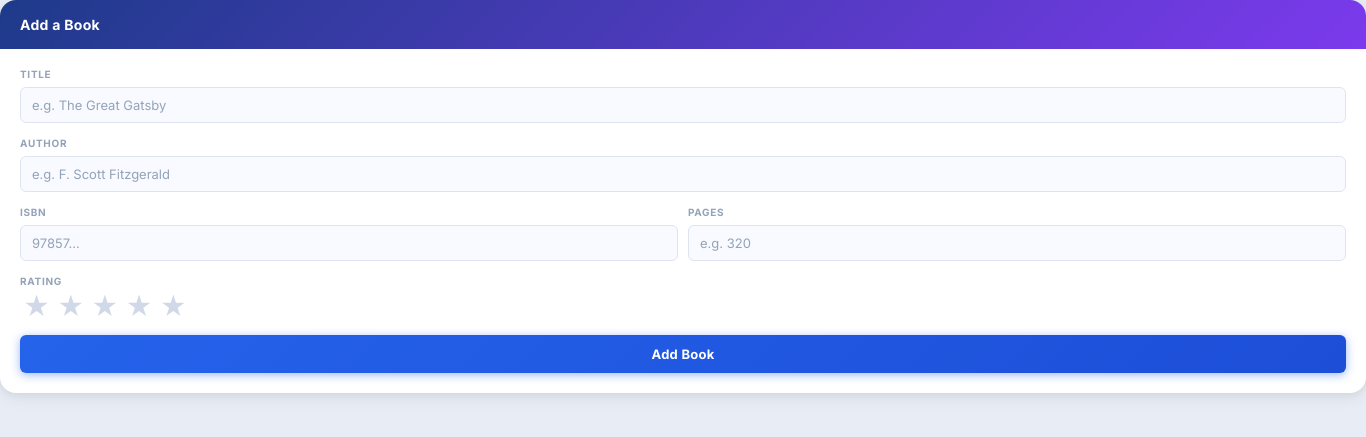
Test: AddBookForm › shows rating error when no star selected
Type "My Book" into the field labelled "Title" at {"x": 683, "y": 105}, box [20,87,1346,123]
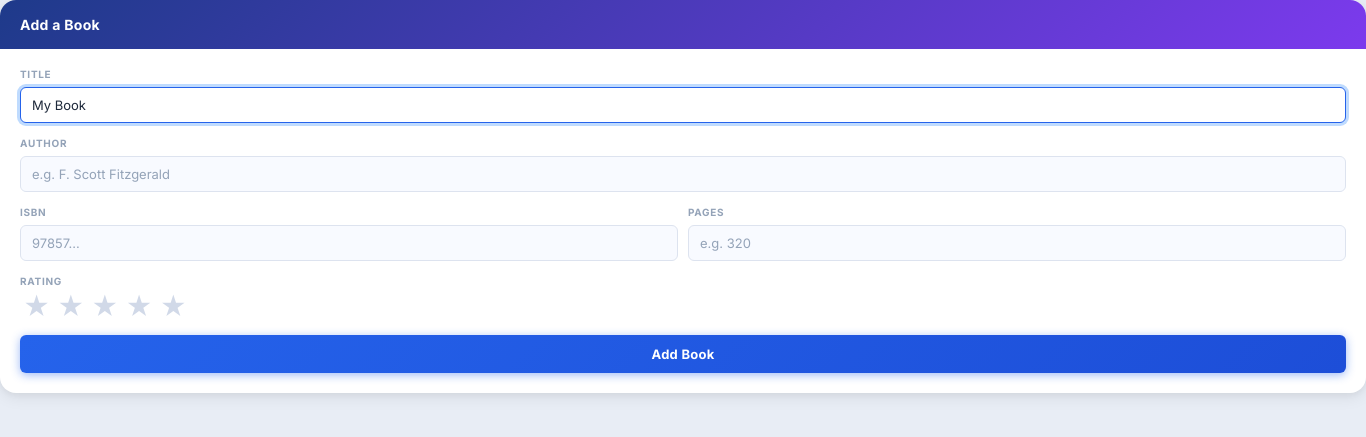
Type "Author" into the field labelled "Author" at {"x": 683, "y": 174}, box [20,156,1346,192]
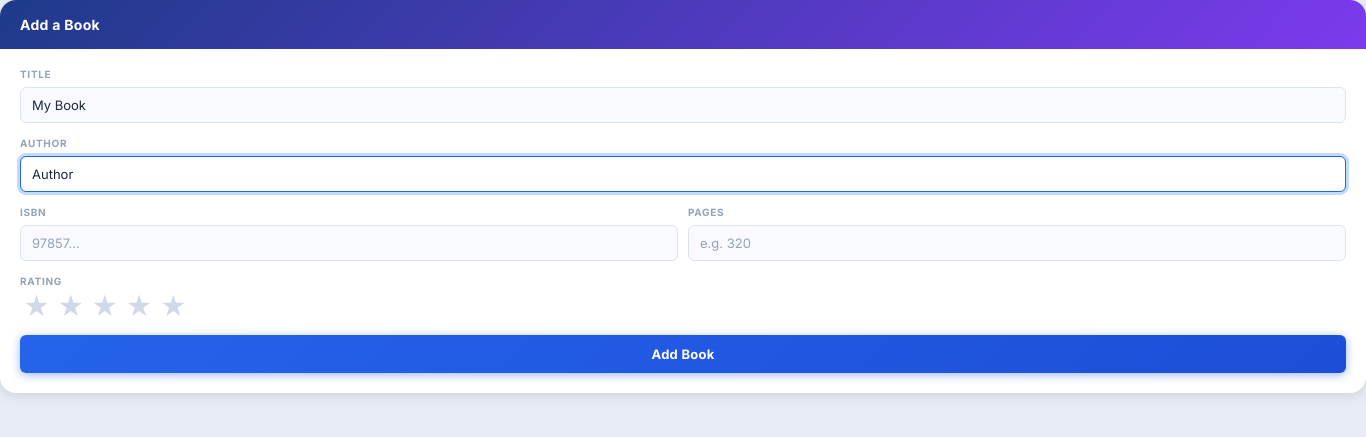
Type "1234567890" into the field labelled "ISBN" at {"x": 349, "y": 243}, box [20,225,678,261]
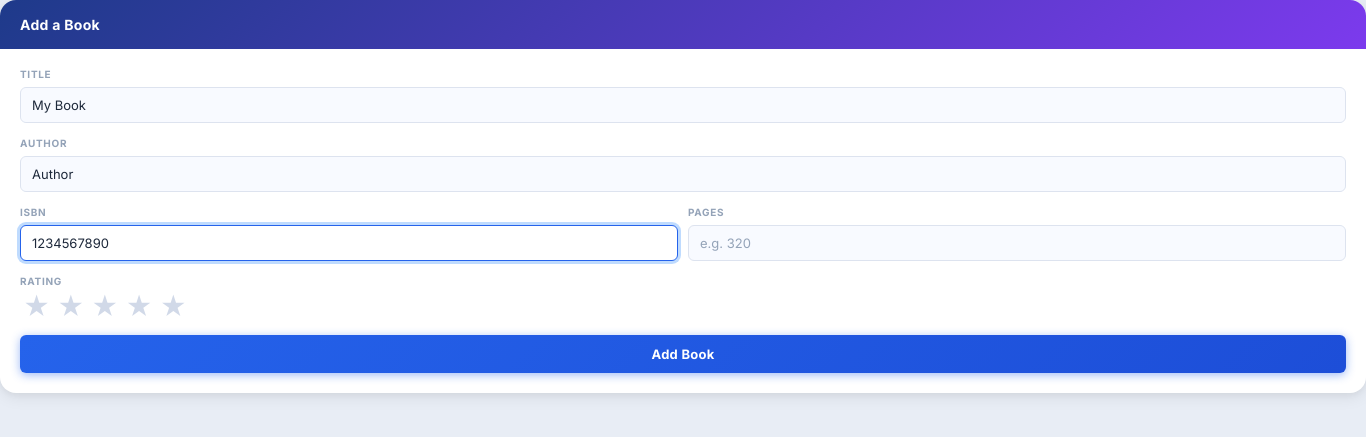
Type "200" into the number field labelled "Pages" at {"x": 1017, "y": 243}, box [688,225,1346,261]
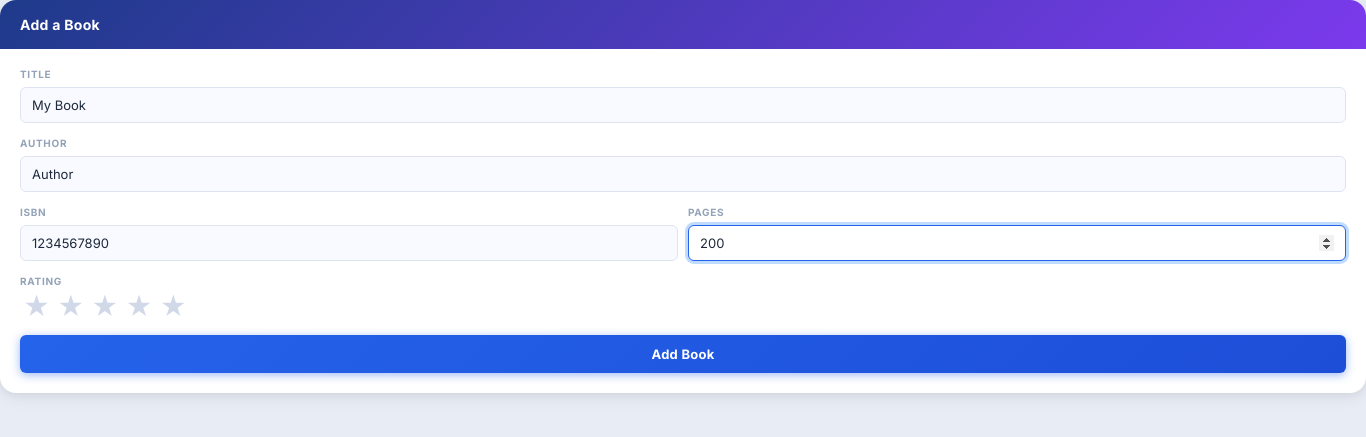
Click the button "Add Book" at {"x": 683, "y": 354}, box [20,335,1346,373]
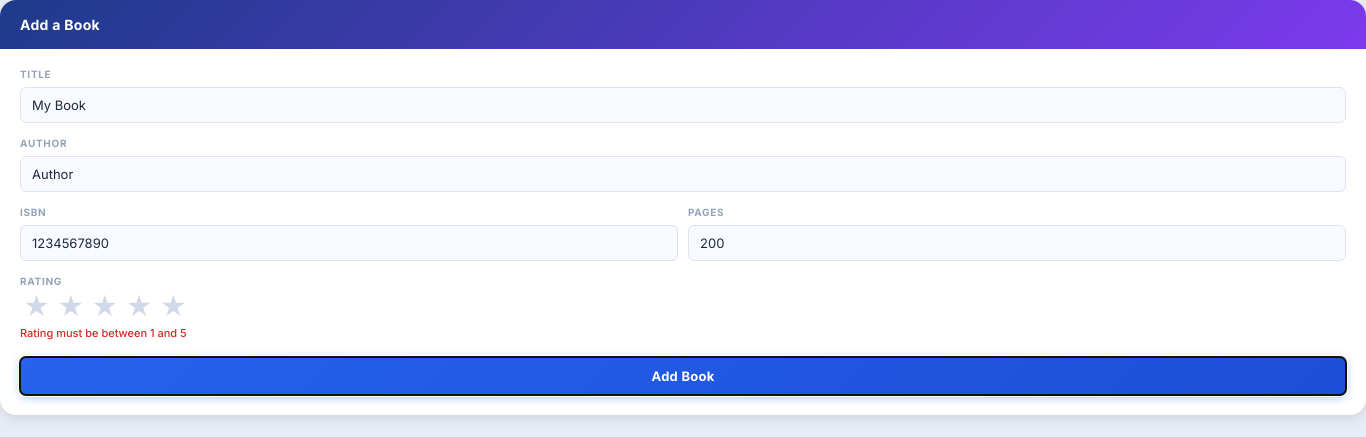
Check: the text "Rating must be between 1 and 5" is shown, box [20,326,187,340]
